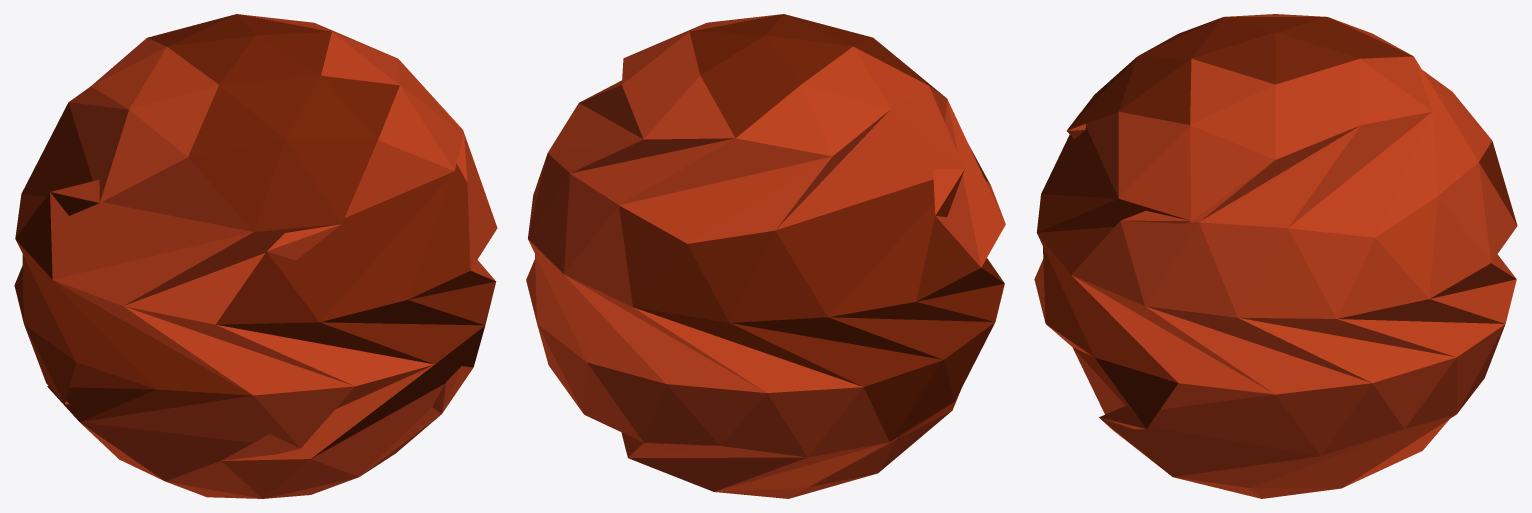
The model's file is Mars_1239.glb.
3 renders of one model, left to right at view 1: azimuth 30°, elevation 25°; view 2: azimuth 150°, elevation 25°; view 3: azimuth 270°, elevation 25°, orthographic.
Parts seen in each view (by area): view 1: node-0; view 2: node-0; view 3: node-0.
Part boxes in pixels (<box>): node-0: <box>14,14,497,498</box>; node-0: <box>526,14,1005,498</box>; node-0: <box>1034,14,1517,498</box>.
Size of the model in its own units: 59.57 by 60.43 by 59.5.
